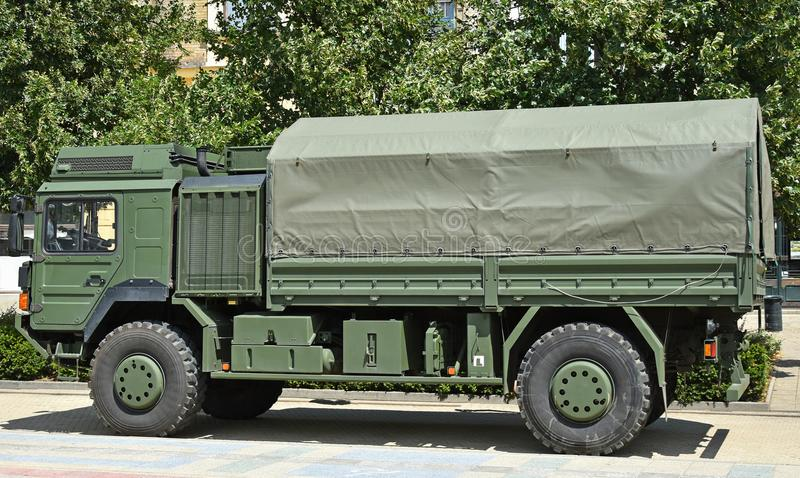camion: (29, 103, 770, 432)
